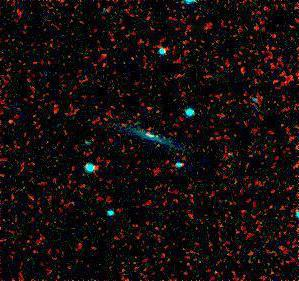star: (144, 120, 174, 150)
